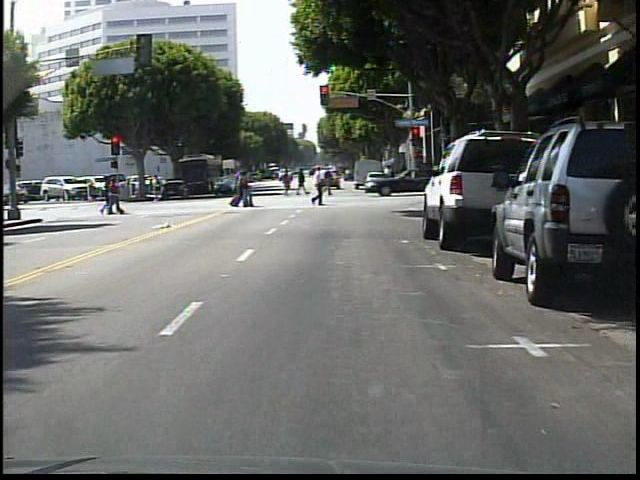person: (308, 165, 331, 214), (148, 171, 167, 201), (323, 167, 339, 196)
